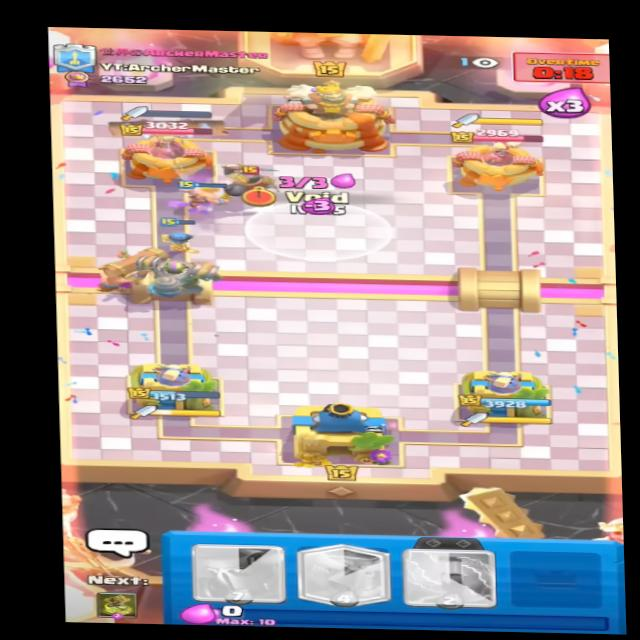knight: (219, 163, 289, 205)
log: (105, 117, 234, 143)
